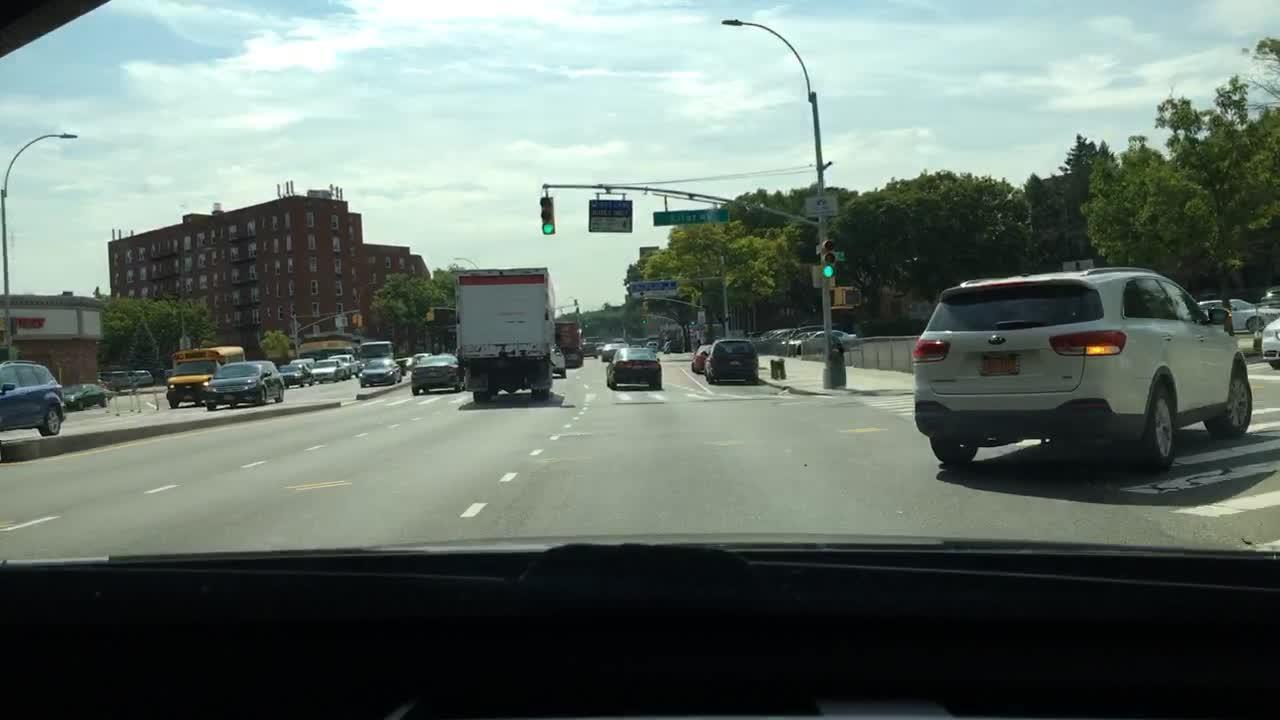kia: (981, 332, 1013, 350)
